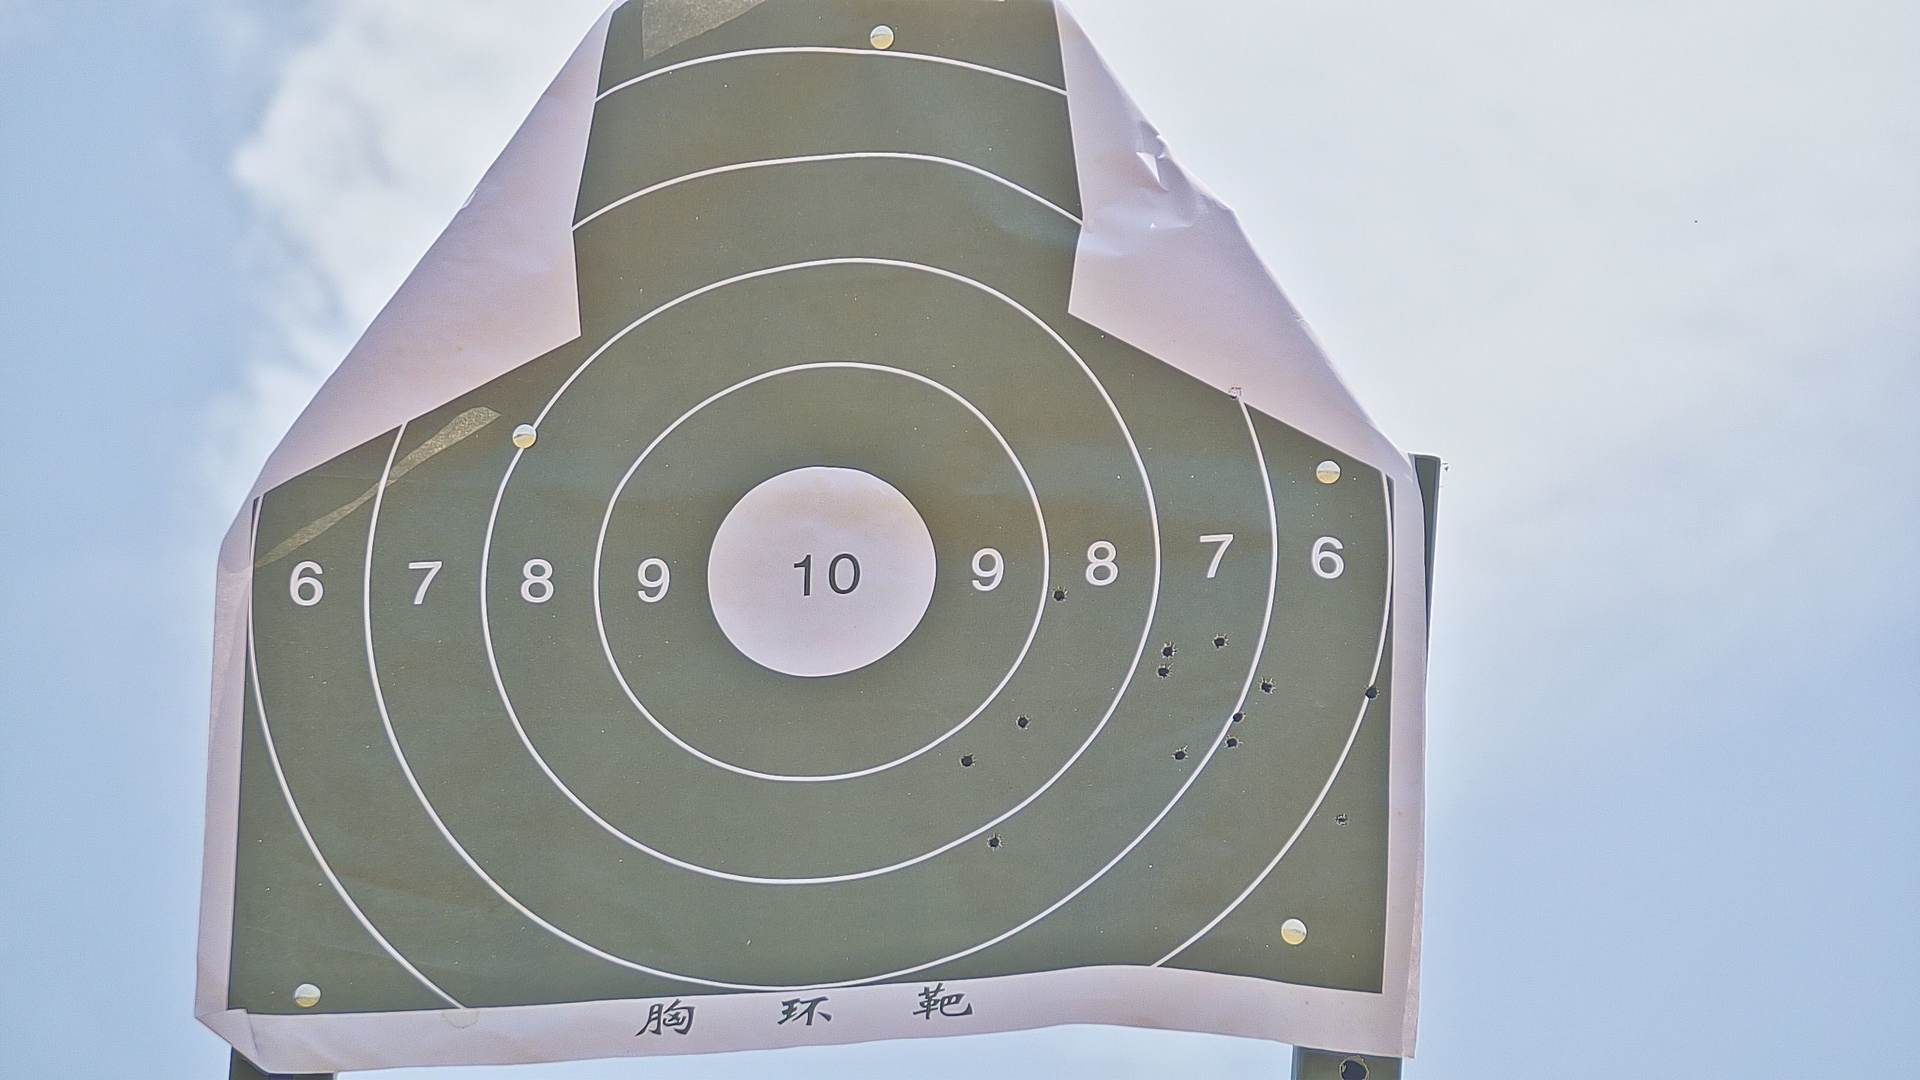hole: (1222, 735, 1242, 750), (1052, 585, 1069, 603), (1364, 684, 1379, 702), (1162, 645, 1178, 659), (1335, 811, 1349, 827), (1017, 713, 1030, 731), (1232, 709, 1246, 724), (1172, 746, 1187, 761), (988, 835, 1001, 851), (1215, 634, 1228, 650), (960, 754, 975, 767), (1156, 666, 1170, 679), (1259, 680, 1273, 694)
kernel: (819, 572, 827, 578)
target: (222, 3, 1393, 1004)
ten: (702, 464, 942, 680)
